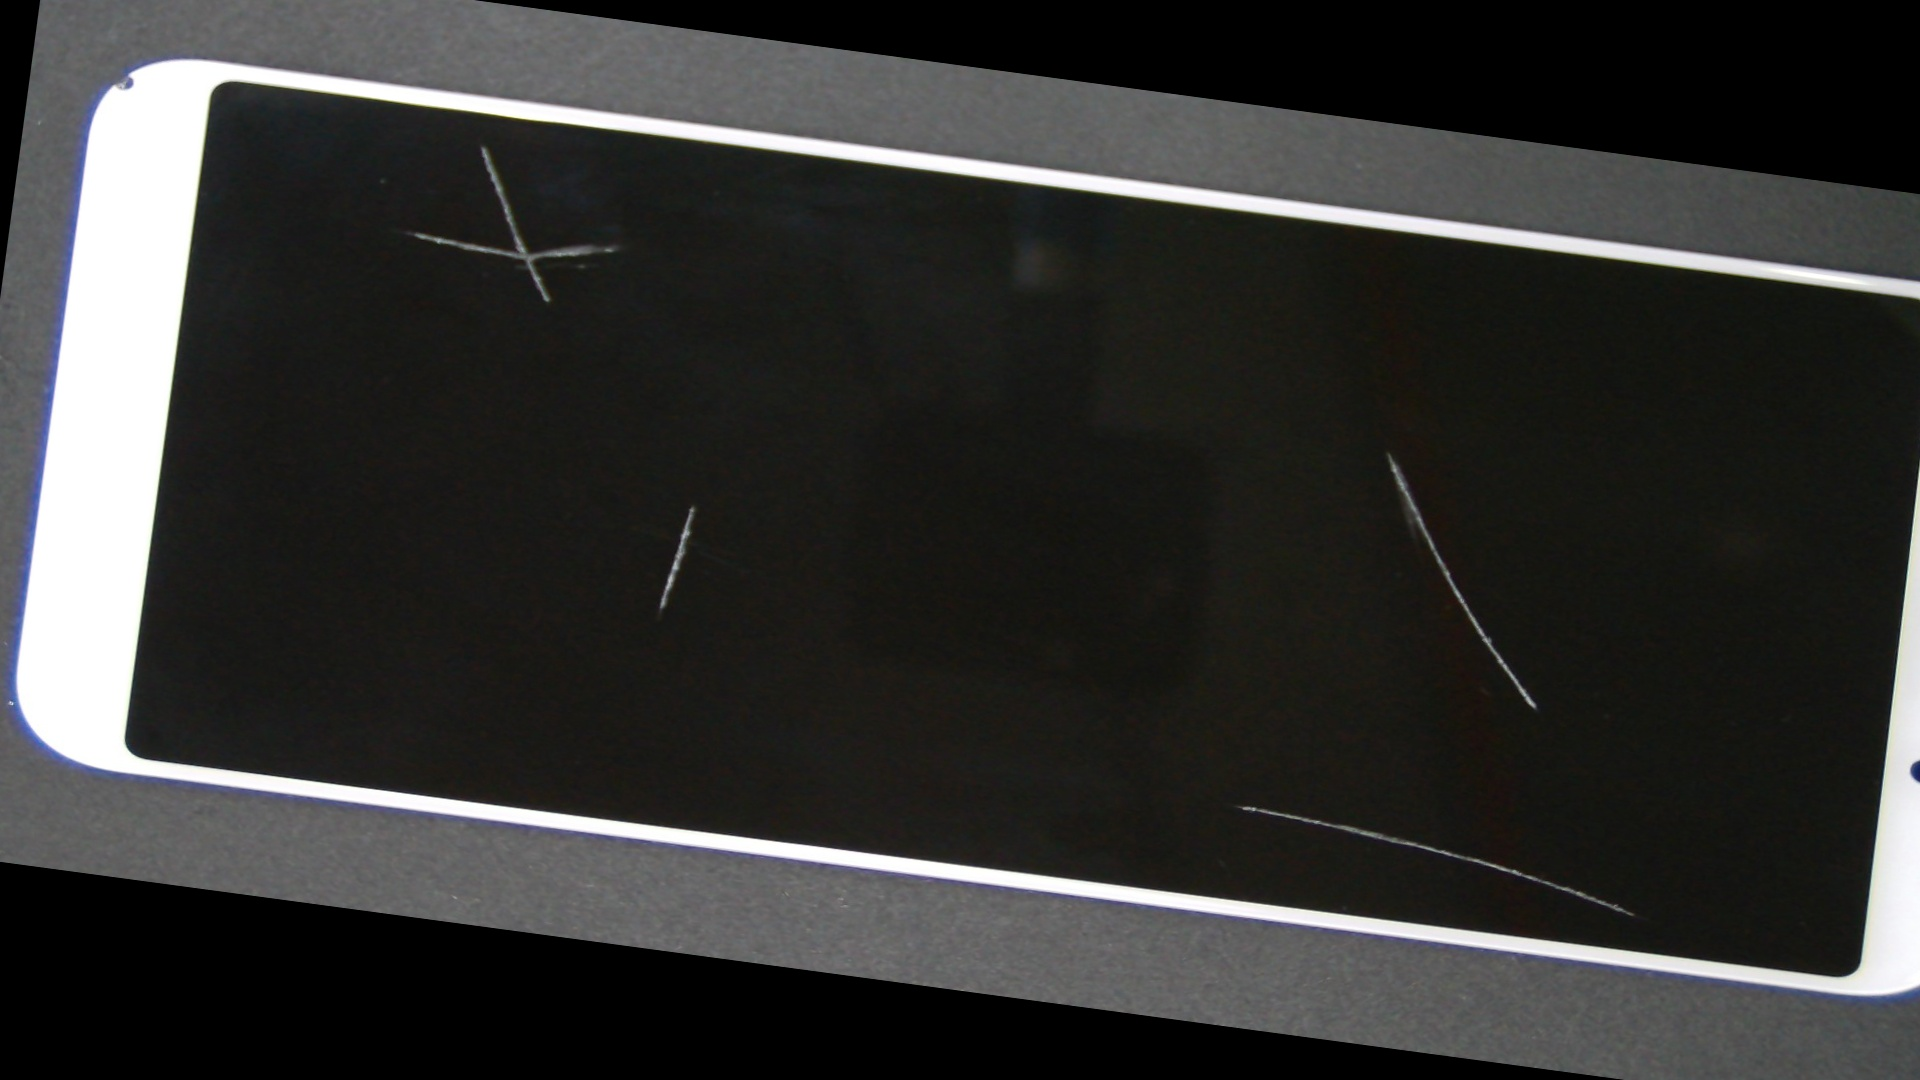oil: (571, 373, 1920, 1080), (675, 196, 1920, 705), (309, 223, 1075, 786), (248, 42, 717, 247)
